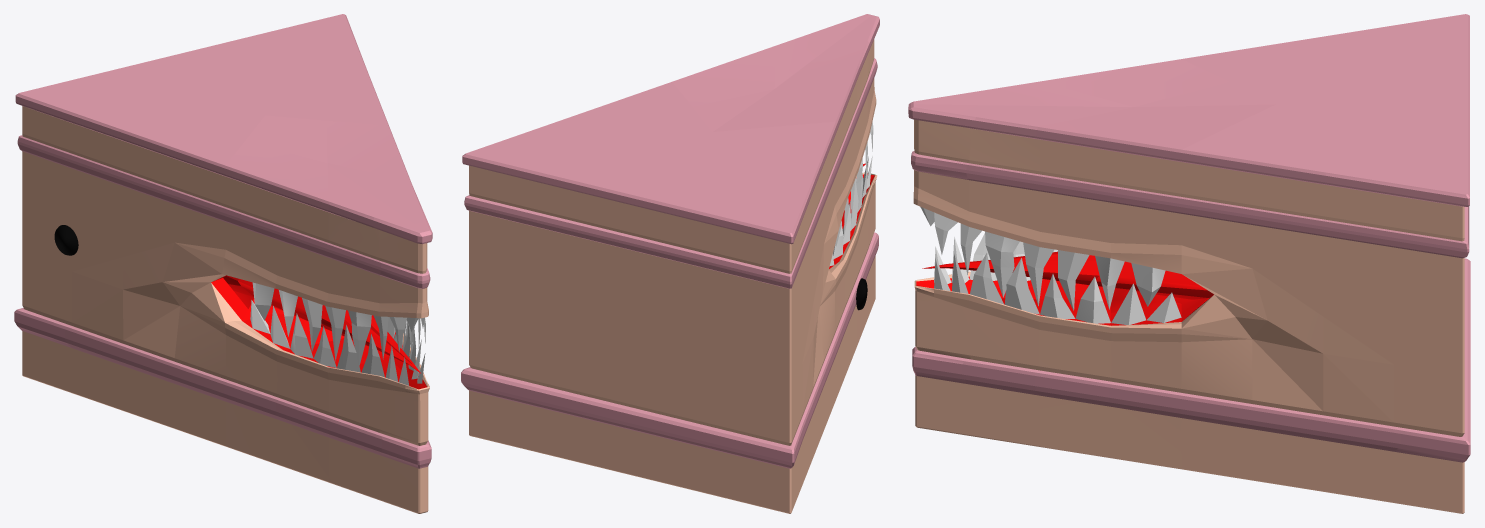
The model's file is CakeMirrored.obj.
The picture shows the model from 3 angles, left to right: view 1: azimuth 30°, elevation 25°; view 2: azimuth 150°, elevation 25°; view 3: azimuth 270°, elevation 25°; orthographic projection. The views are drawn at different scales.
Parts seen in each view (by area): view 1: Cake (6), Sphere; view 2: Cake (6); view 3: Cake (6).
Boxes of the visible parts, x1=… form: Cake (6): x1=14, y1=14, x2=432, y2=513; Sphere: x1=54, y1=225, x2=78, y2=255; Cake (6): x1=461, y1=14, x2=879, y2=513; Cake (6): x1=908, y1=14, x2=1470, y2=513.
Size of the model in its own units: 3.21 by 2.5 by 3.97.
